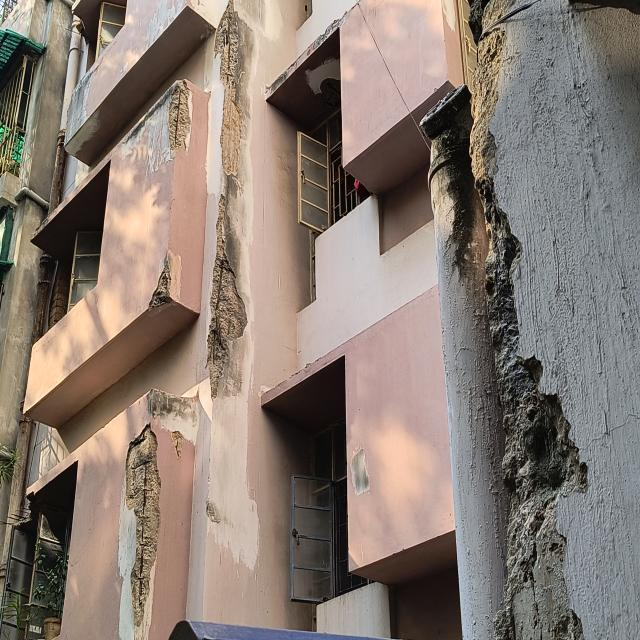Spalling: (468, 31, 588, 640), (207, 194, 247, 399), (126, 424, 161, 638), (214, 0, 242, 178), (168, 80, 191, 154), (149, 259, 172, 308)
